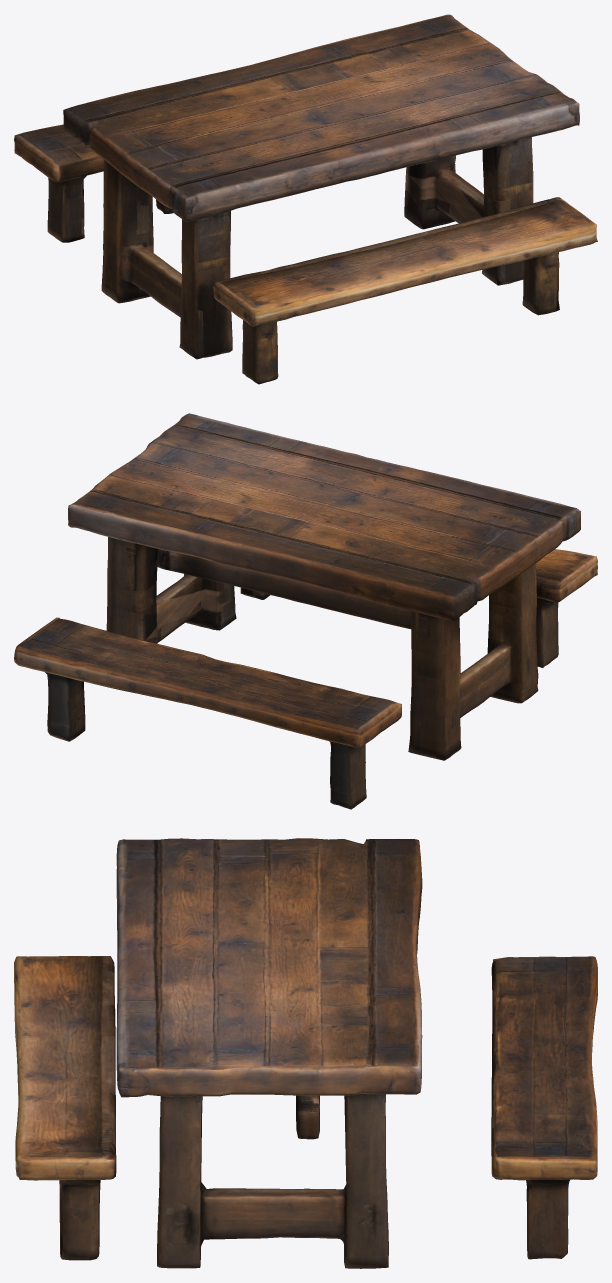
The model's file is rustic_tavern_bench.glb.
3 views of the same model, one above another, from view 1: azimuth 30°, elevation 25°; view 2: azimuth 150°, elevation 25°; view 3: azimuth 270°, elevation 25° (orthographic). The views are drawn at different scales.
Bounding box in the file's own units: 1.89 × 0.823 × 2.
Materials: 1 (1 with a texture image).
